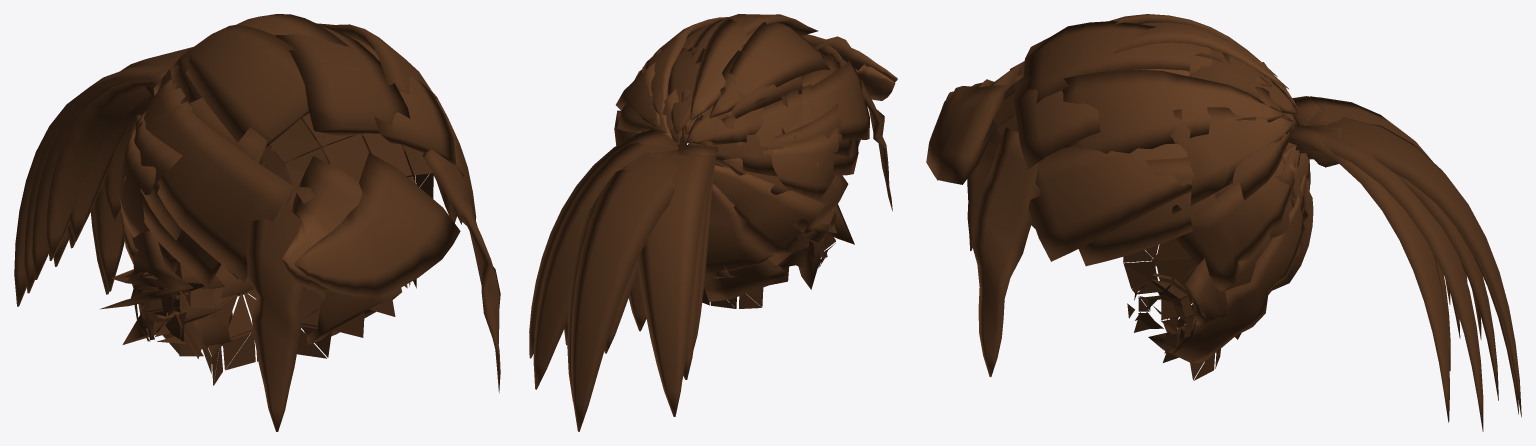
Rendered from kopf.haar.zopf_wild.glb.
3 views of the same model, side by side, from view 1: azimuth 30°, elevation 25°; view 2: azimuth 150°, elevation 25°; view 3: azimuth 270°, elevation 25° (orthographic). The views are drawn at different scales.
Parts seen in each view (by area): view 1: haar; view 2: haar; view 3: haar.
Boxes of the visible parts, x1,y1,x2,y2 form: haar: [14, 14, 500, 431]; haar: [529, 14, 897, 431]; haar: [926, 14, 1521, 431].
Bounding box in the file's own units: 0.2128 × 0.2458 × 0.348.
